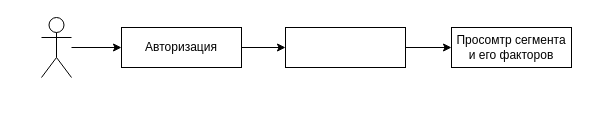
Some shapes in this 589 by 116 pixel diagram are drawn without their labels. The centre of each missing label's shape, as x and y in pixels:
"Выбор сегмента из меню" belongs at [345,47].
"Пользователь" belongs at [56,47].
